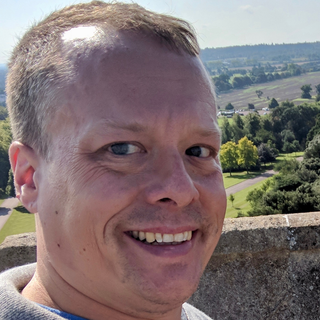eye: (96, 136, 152, 163), (176, 141, 225, 164)
